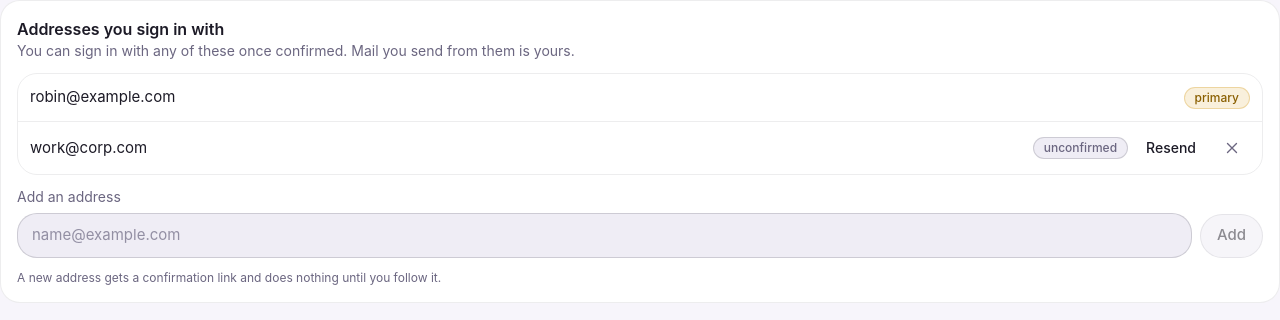
Test: the addresses a member holds › marks an unconfirmed one and offers to send the link again
Expected: the text "unconfirmed" is shown, x1=1033 y1=137 x2=1128 y2=159
Expected: the text "primary" is shown, x1=1184 y1=86 x2=1250 y2=108
What coordinates should you click on to do the following:
click the button "Resend"
I would click on:
 (1171, 148)
Its box is x1=1134 y1=130 x2=1208 y2=166.
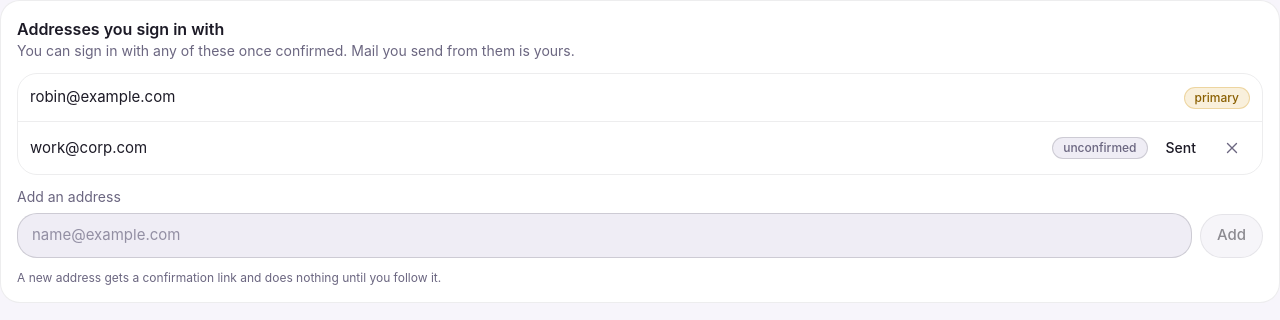
Result: the button "Sent" is shown at x1=1154 y1=130 x2=1208 y2=166
